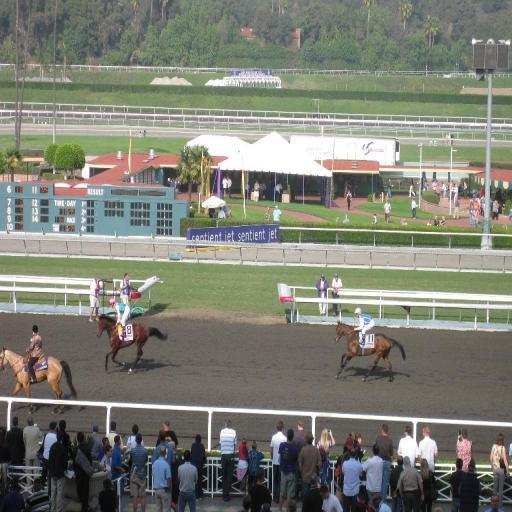horse: (0, 348, 80, 414), (333, 319, 405, 384), (97, 314, 168, 376)
